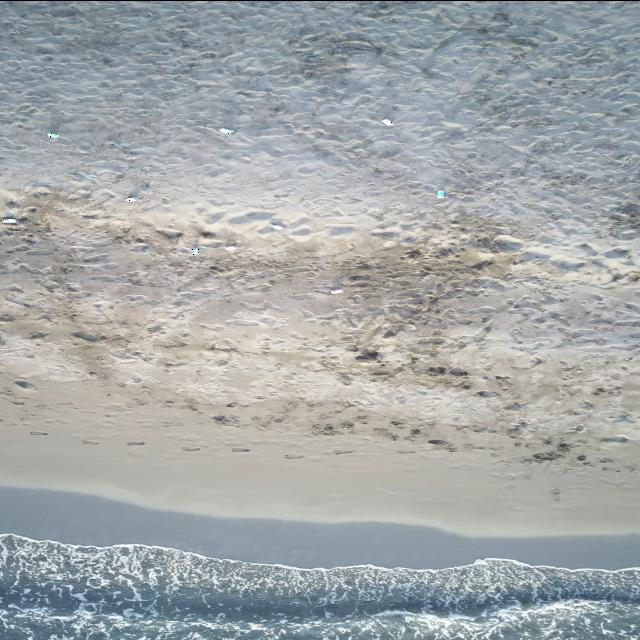Garbage: (156, 227, 181, 239), (600, 435, 628, 442), (270, 223, 283, 230), (224, 244, 236, 251), (219, 128, 233, 134), (329, 287, 342, 293), (435, 190, 444, 198), (3, 218, 16, 223), (48, 131, 59, 136), (30, 430, 47, 433), (191, 247, 199, 253), (383, 119, 392, 124), (125, 196, 136, 200)
